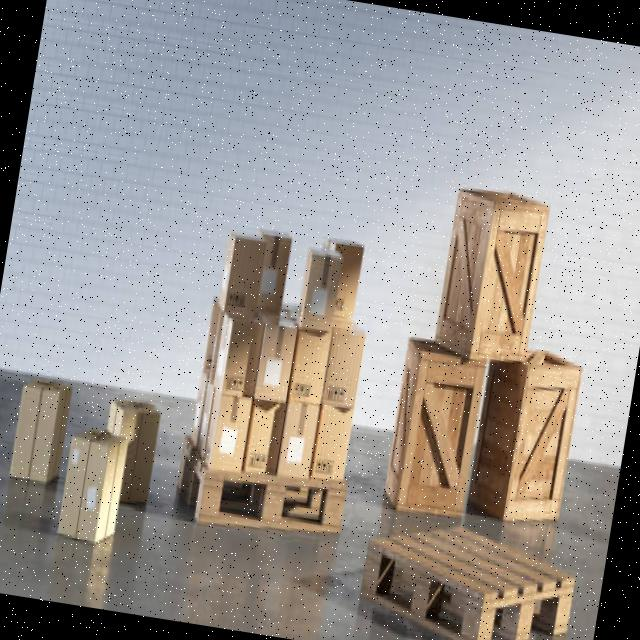Wooden-Pallets: (358, 517, 577, 640), (170, 440, 352, 543)
